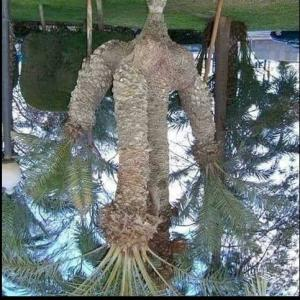palm tree: (2, 0, 300, 296)
